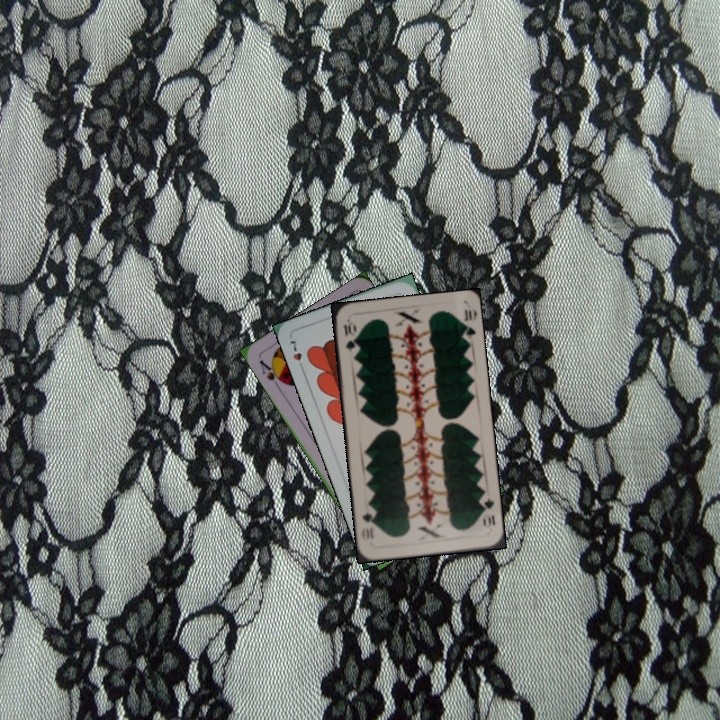G10: (477, 495, 498, 530), (340, 317, 358, 355)
H7: (286, 336, 307, 374)
SA: (255, 356, 287, 391)
